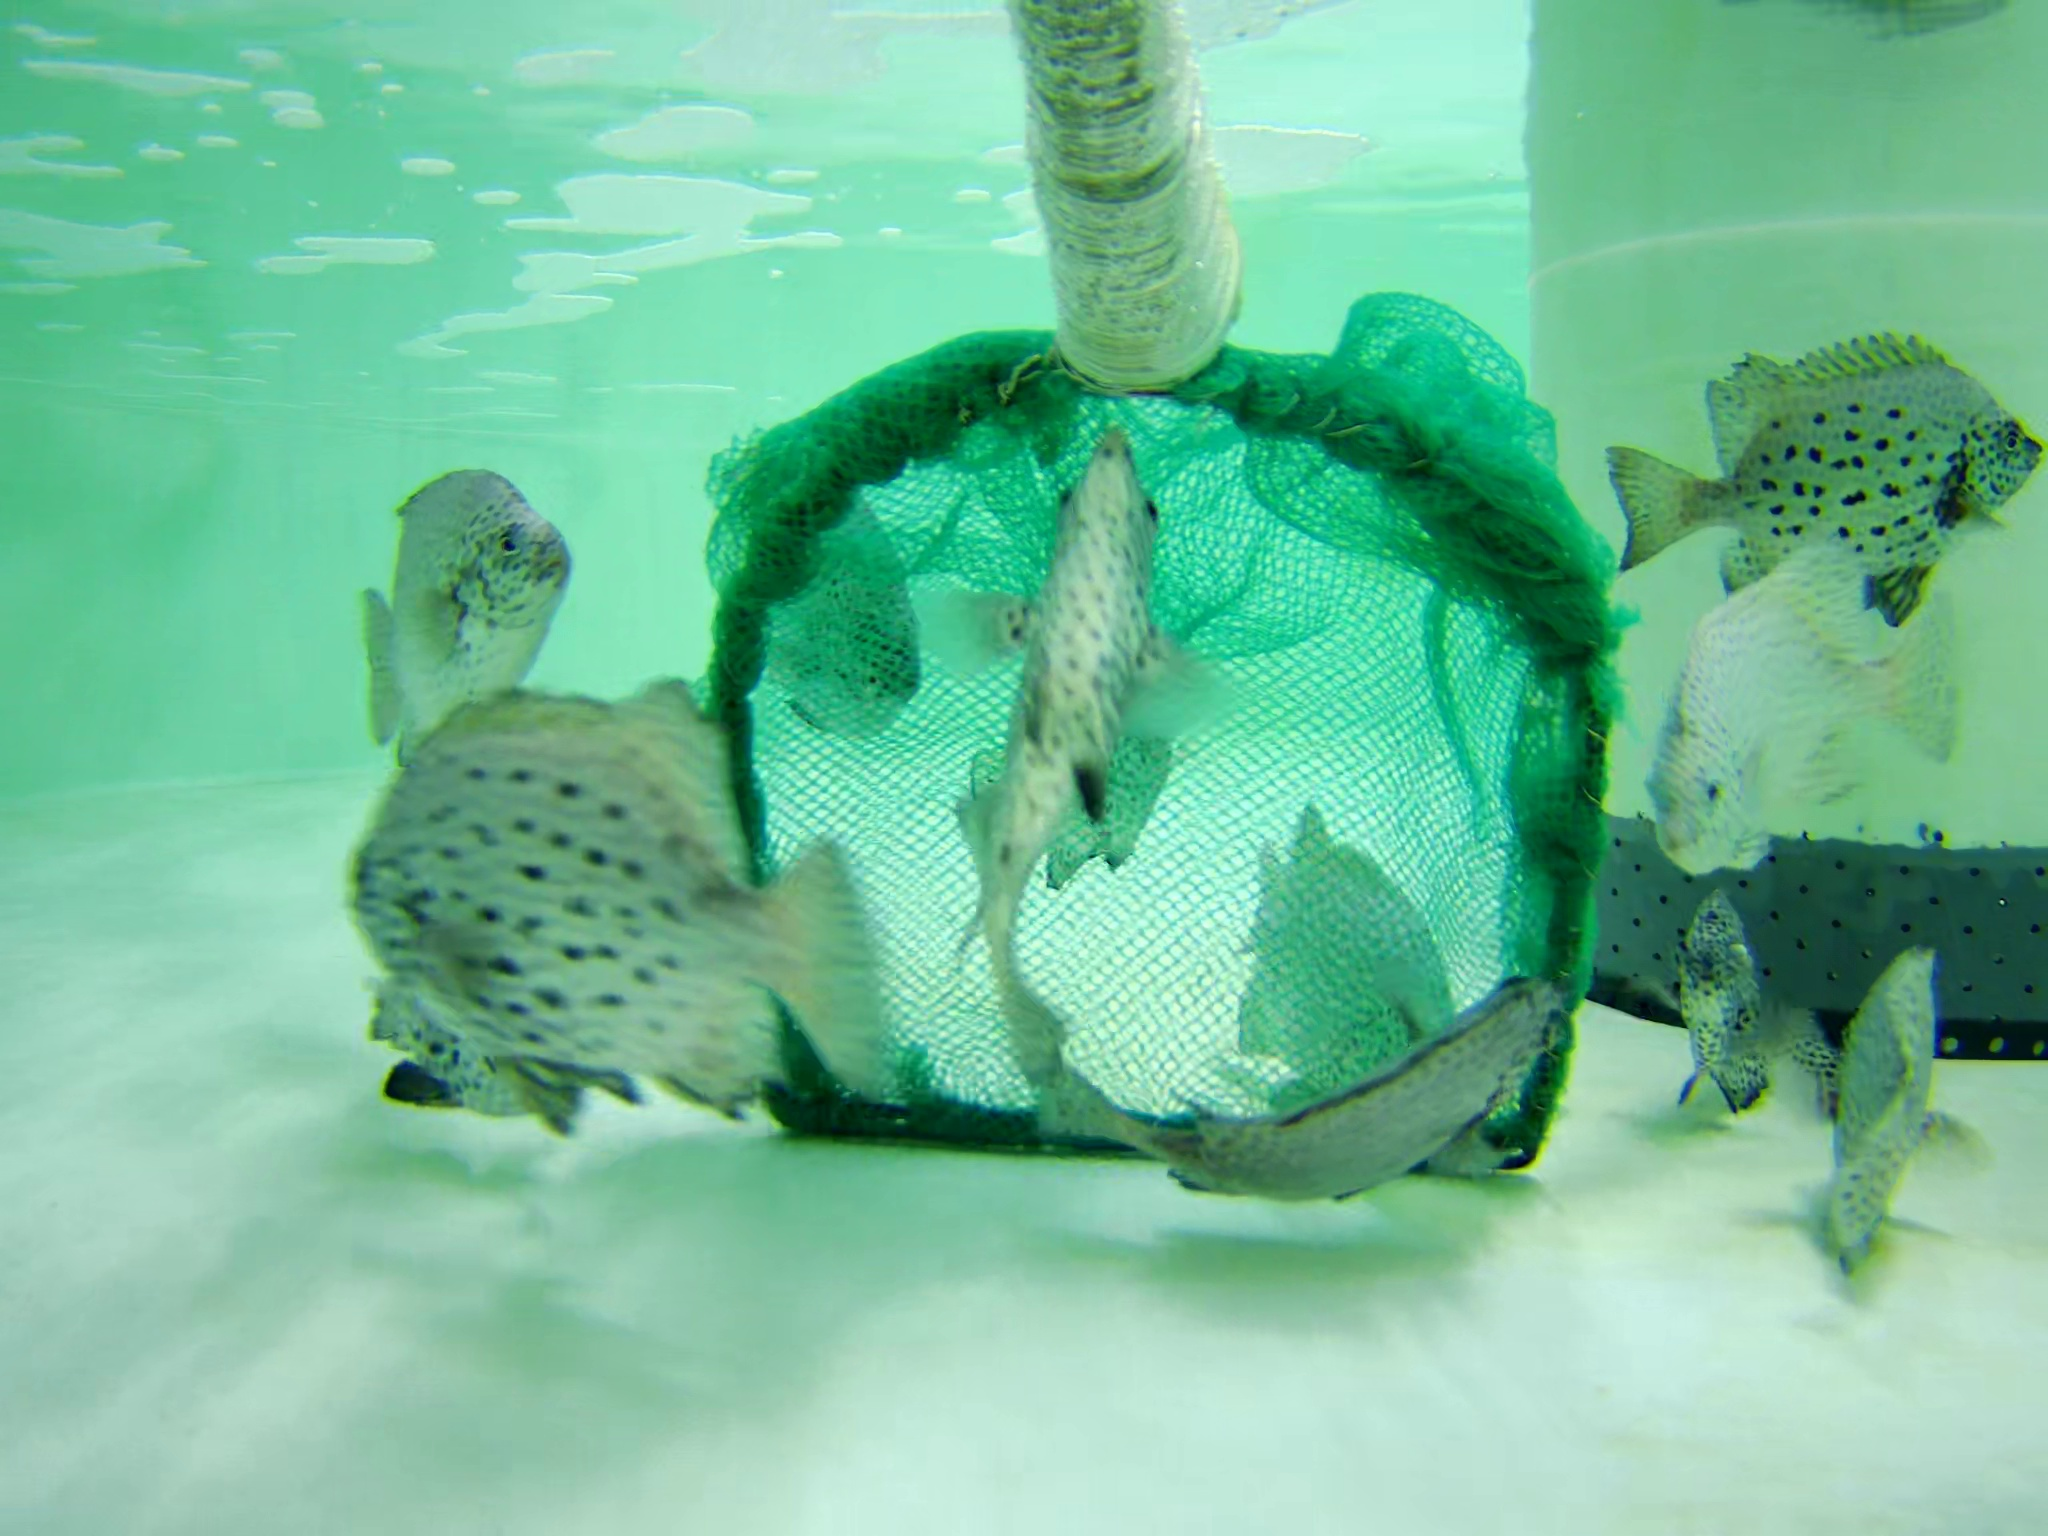fish: (337, 679, 898, 1112), (964, 392, 1143, 1113), (1089, 984, 1556, 1238), (1598, 329, 2048, 571), (1643, 565, 1967, 834), (337, 458, 572, 726), (1251, 807, 1453, 1105), (1824, 949, 1974, 1291), (371, 966, 589, 1165), (776, 466, 921, 747), (1675, 886, 1790, 1118), (1045, 681, 1155, 874)
